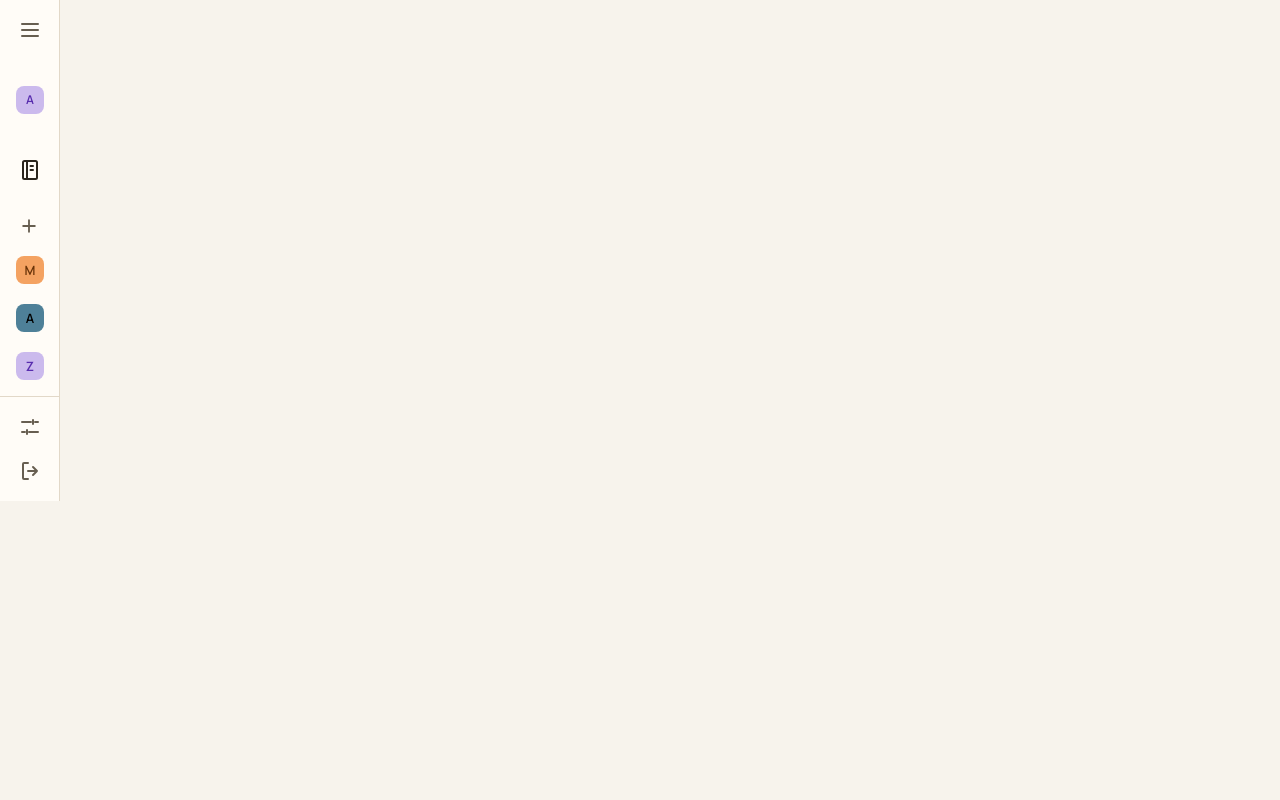
SidePanel › hides the row on a click outside, but not on one inside or on the plus
Click the button named "Create kitchen": point(29, 226) [7,204,51,248]
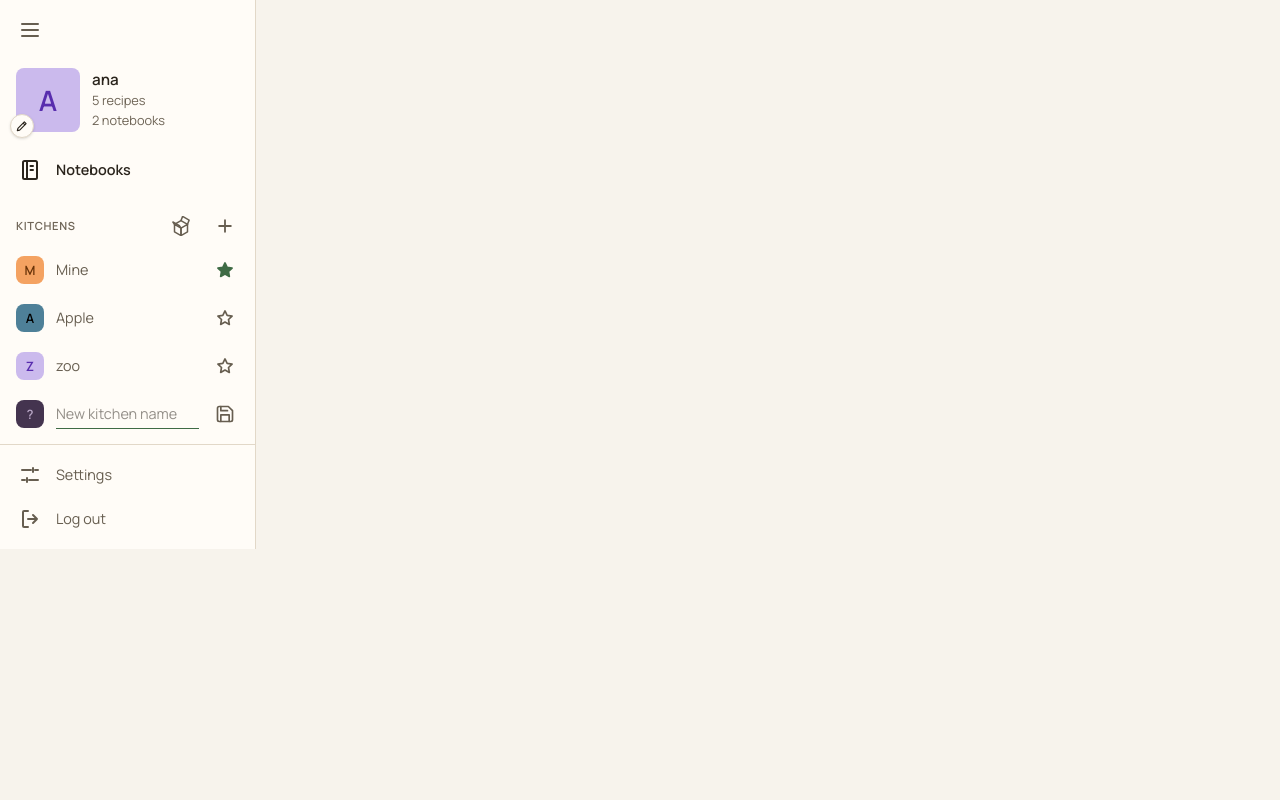
Press the mouse on the field with placeholder "New kitchen name": point(128, 414) [56,399,199,429]
Press the mouse on the button named "Create kitchen": point(225, 226) [203,204,247,248]
Expected: the field with placeholder "New kitchen name" is shown, [56,399,199,429]
Press the mouse on the element that starts with "ana": point(640, 400) [0,0,1279,799]
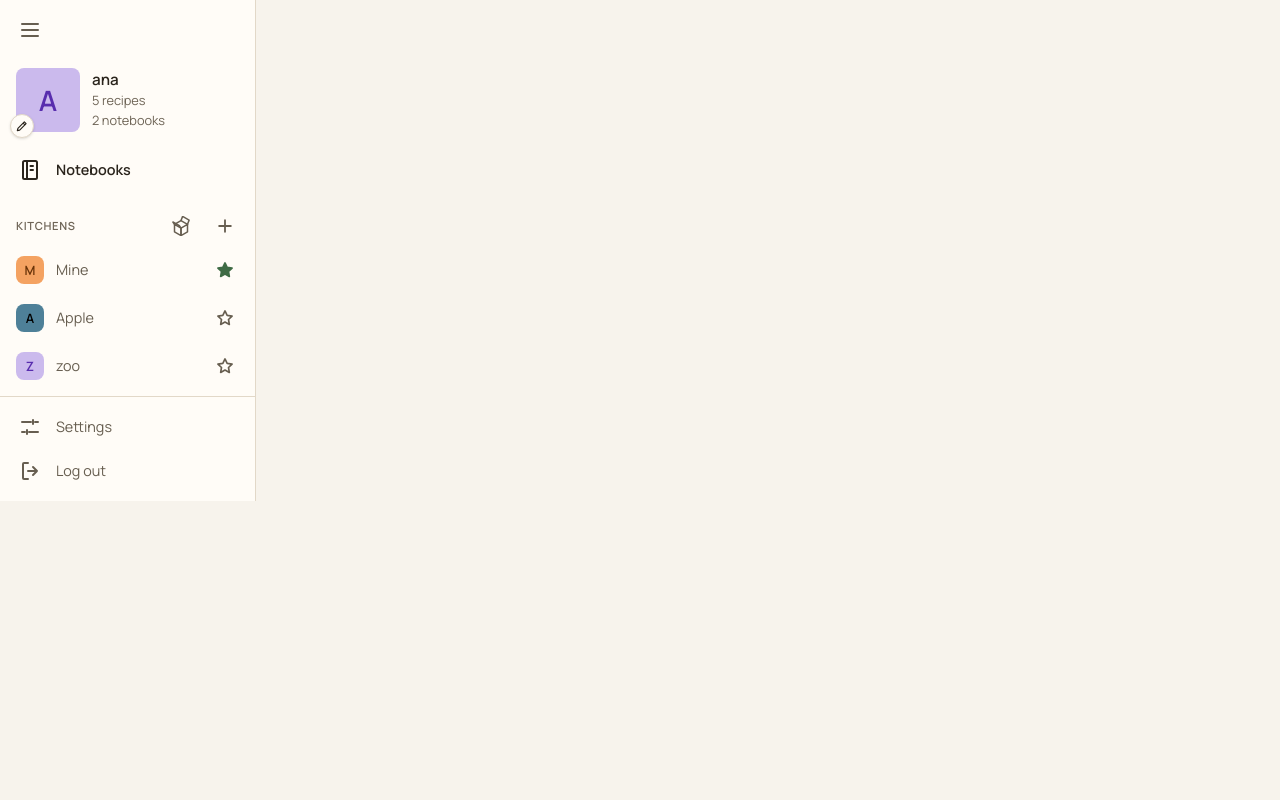
Expected: the field is gone
